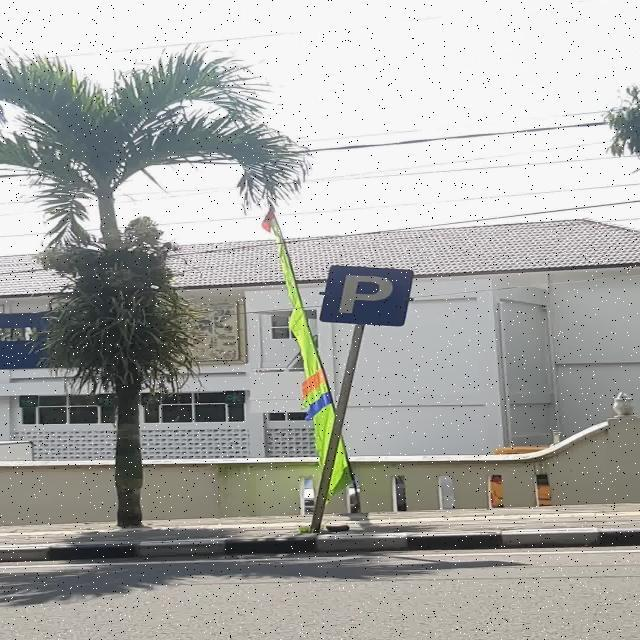Tempat Parkir: (319, 264, 413, 326)
